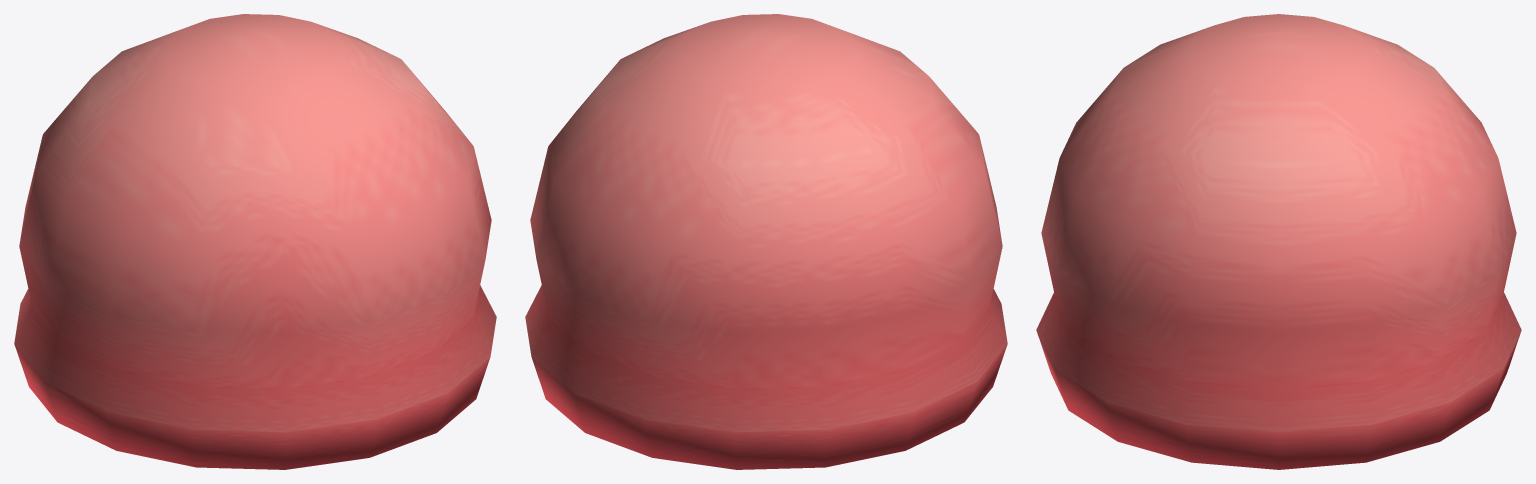
File: icecream_bowl_icecream_strawberry.gltf
The picture shows the model from 3 angles, left to right: view 1: azimuth 30°, elevation 25°; view 2: azimuth 150°, elevation 25°; view 3: azimuth 270°, elevation 25°; orthographic projection.
Visible parts, largest first — view 1: icecream_bowl_icecream_strawberry; view 2: icecream_bowl_icecream_strawberry; view 3: icecream_bowl_icecream_strawberry.
Boxes of the visible parts, <box> form: icecream_bowl_icecream_strawberry: <box>14,14,496,469</box>; icecream_bowl_icecream_strawberry: <box>525,14,1007,469</box>; icecream_bowl_icecream_strawberry: <box>1036,14,1521,469</box>.
Size of the model in its own units: 0.45 by 0.36 by 0.45.
Materials: 1 (1 with a texture image).
